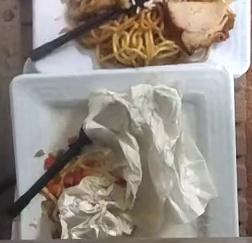asian_noodles: (82, 4, 179, 67)
pork: (160, 0, 234, 53)
taco_mix: (47, 156, 104, 198)
